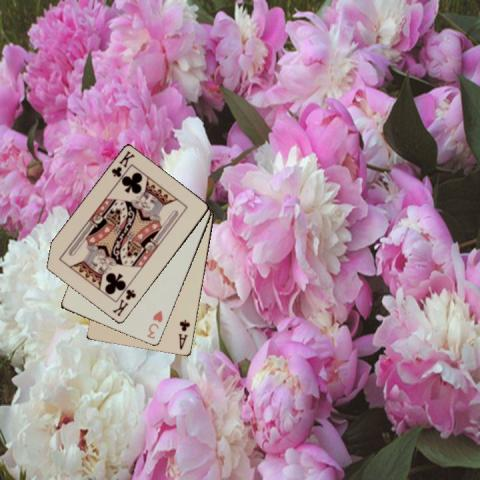3h: (144, 307, 165, 341)
Ac: (176, 317, 191, 351)
Kc: (108, 148, 136, 179), (110, 287, 137, 318)
